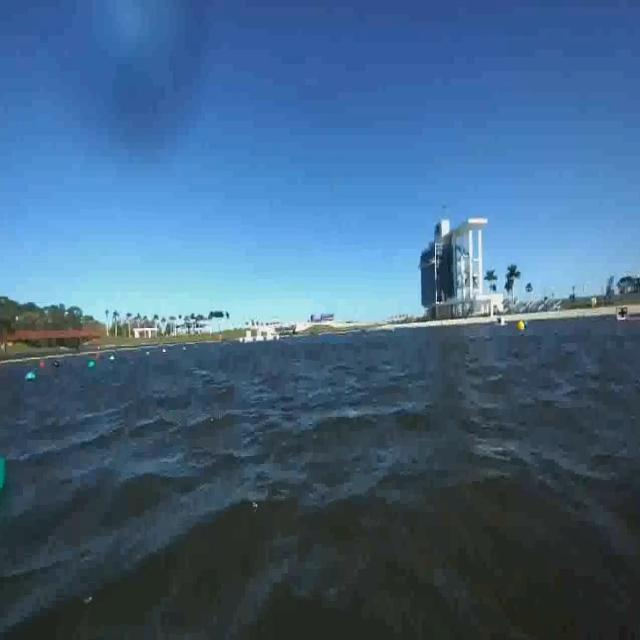green-buoy: (0, 454, 7, 494)
yellow-buoy: (516, 321, 524, 334)
